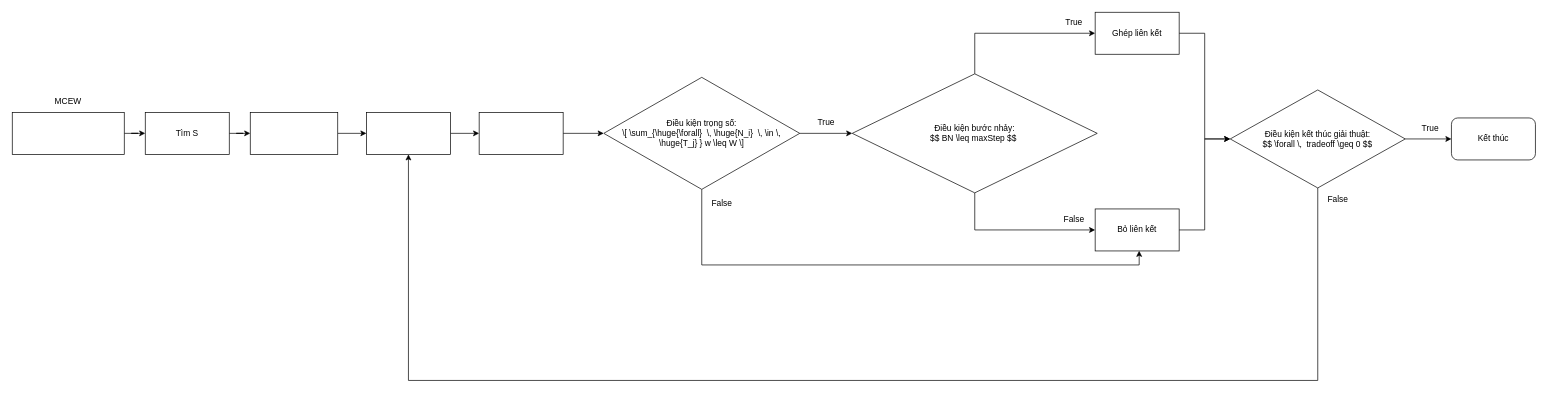
Image size: 1548x398. Some labels were removed from this diagram. The box of each missing label's shape, as (x1, y1, x2, y2) in pixels:
B, N, w i , W, Cost(i, j): (12, 112, 124, 154)
Tìm neighbor của n (Với mọi n trong N): (250, 112, 338, 154)
Tìm tradeoff_min: (478, 112, 563, 154)
Tính tradeoff: (366, 112, 450, 154)
